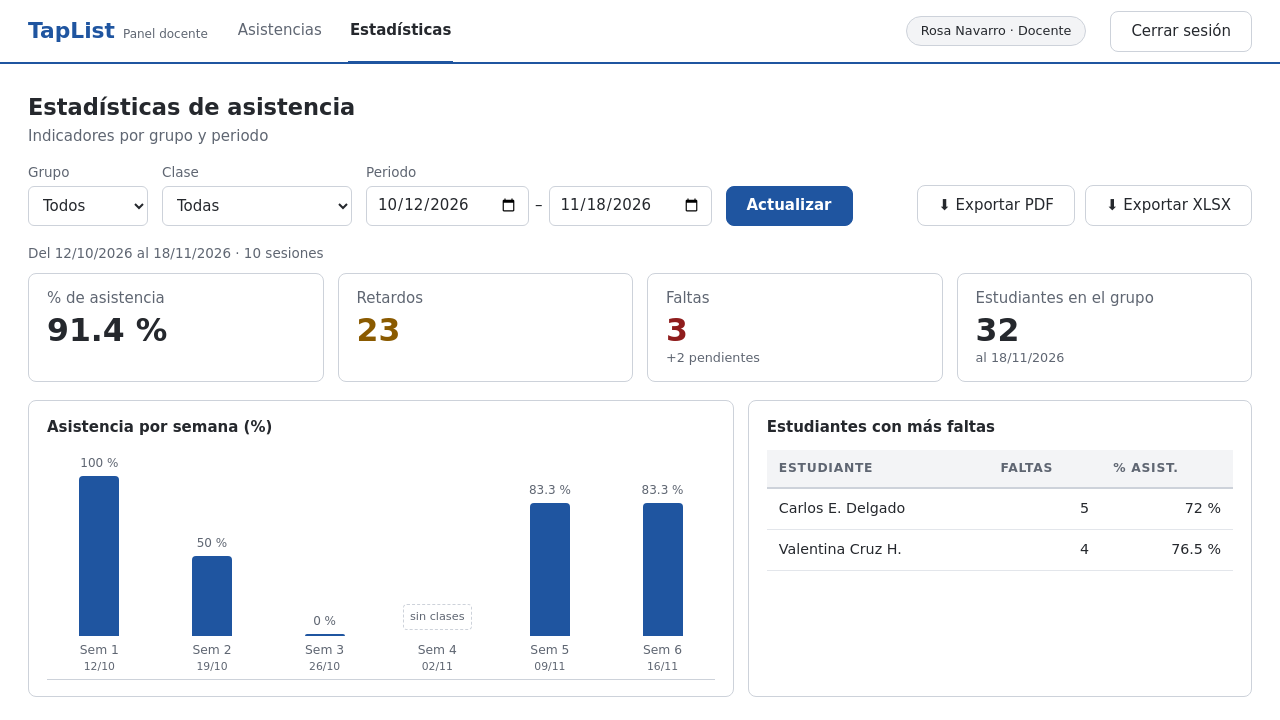
P3 · Exportar y errores › si la exportación falla, lo dice y el botón vuelve a quedar disponible
The image size is (1280, 720).
Expected: the heading "Asistencia por semana (%)" is shown, top-left (47, 418), bottom-right (272, 436)
Click the button "⬇ Exportar PDF" at (996, 205), box top-left (917, 185), bottom-right (1075, 226)
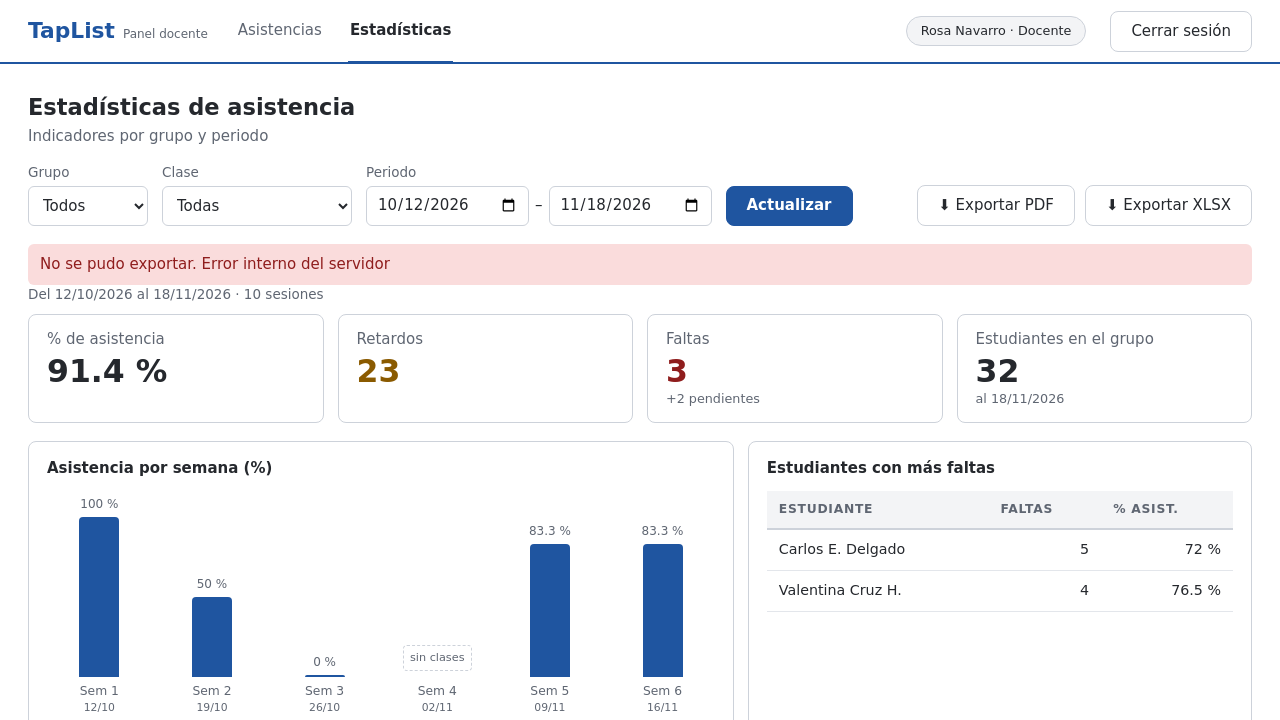
Expected: the message reads "No se pudo exportar. Error interno del servidor", top-left (40, 255), bottom-right (390, 273)
